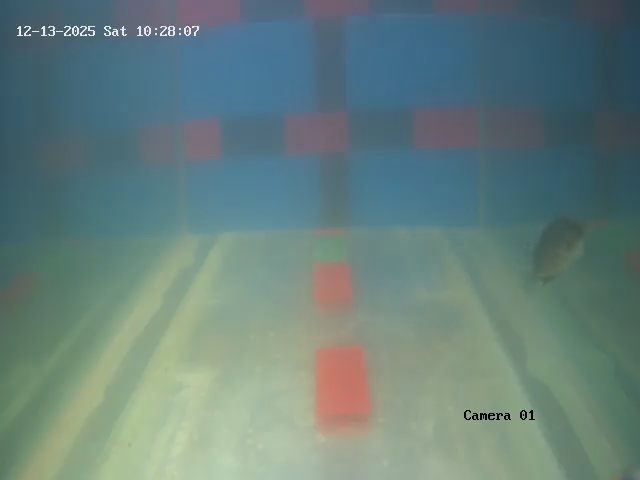fish: (524, 210, 579, 281)
